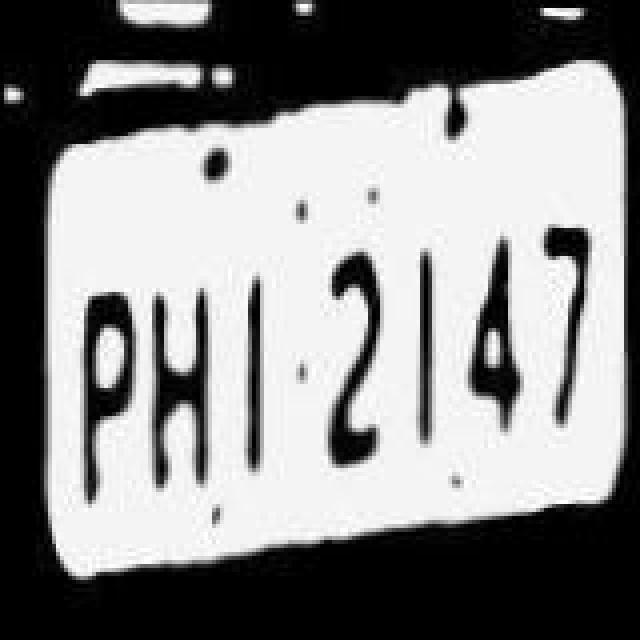1: (394, 230, 446, 482), (216, 262, 272, 490)
2: (302, 238, 394, 494)
4: (456, 212, 528, 460)
7: (528, 218, 608, 462)
H: (138, 270, 218, 498)
P: (58, 270, 138, 514)
